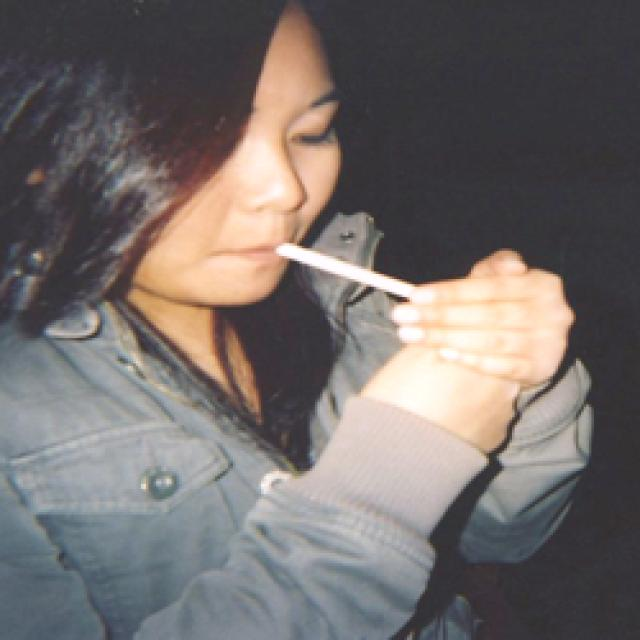Smooking: (280, 232, 416, 314)
